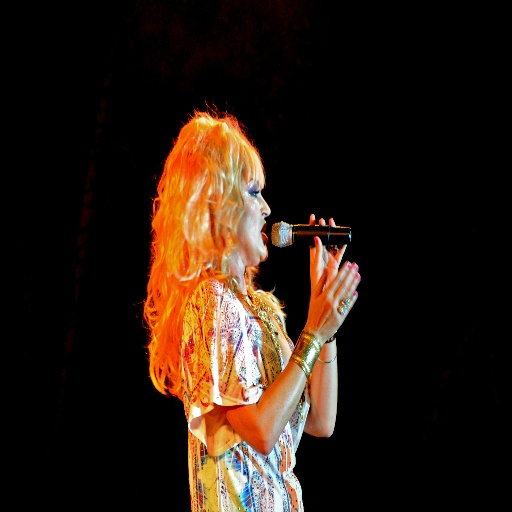hand: (295, 248, 362, 359), (309, 212, 348, 292)
